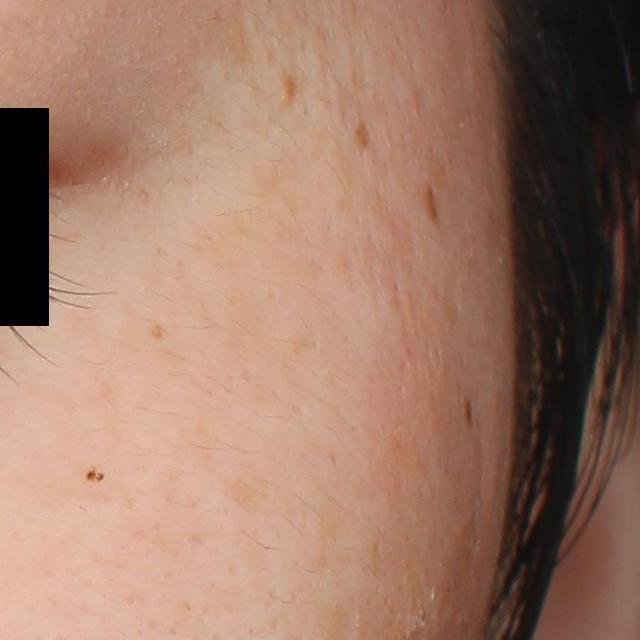melasma: (149, 322, 171, 338)
nevus: (79, 459, 112, 488), (425, 176, 440, 227), (351, 116, 371, 150), (281, 76, 299, 109), (463, 397, 477, 437)
